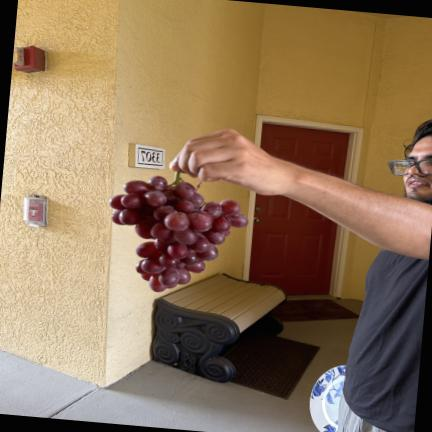grape_cluster: (109, 172, 248, 292)
